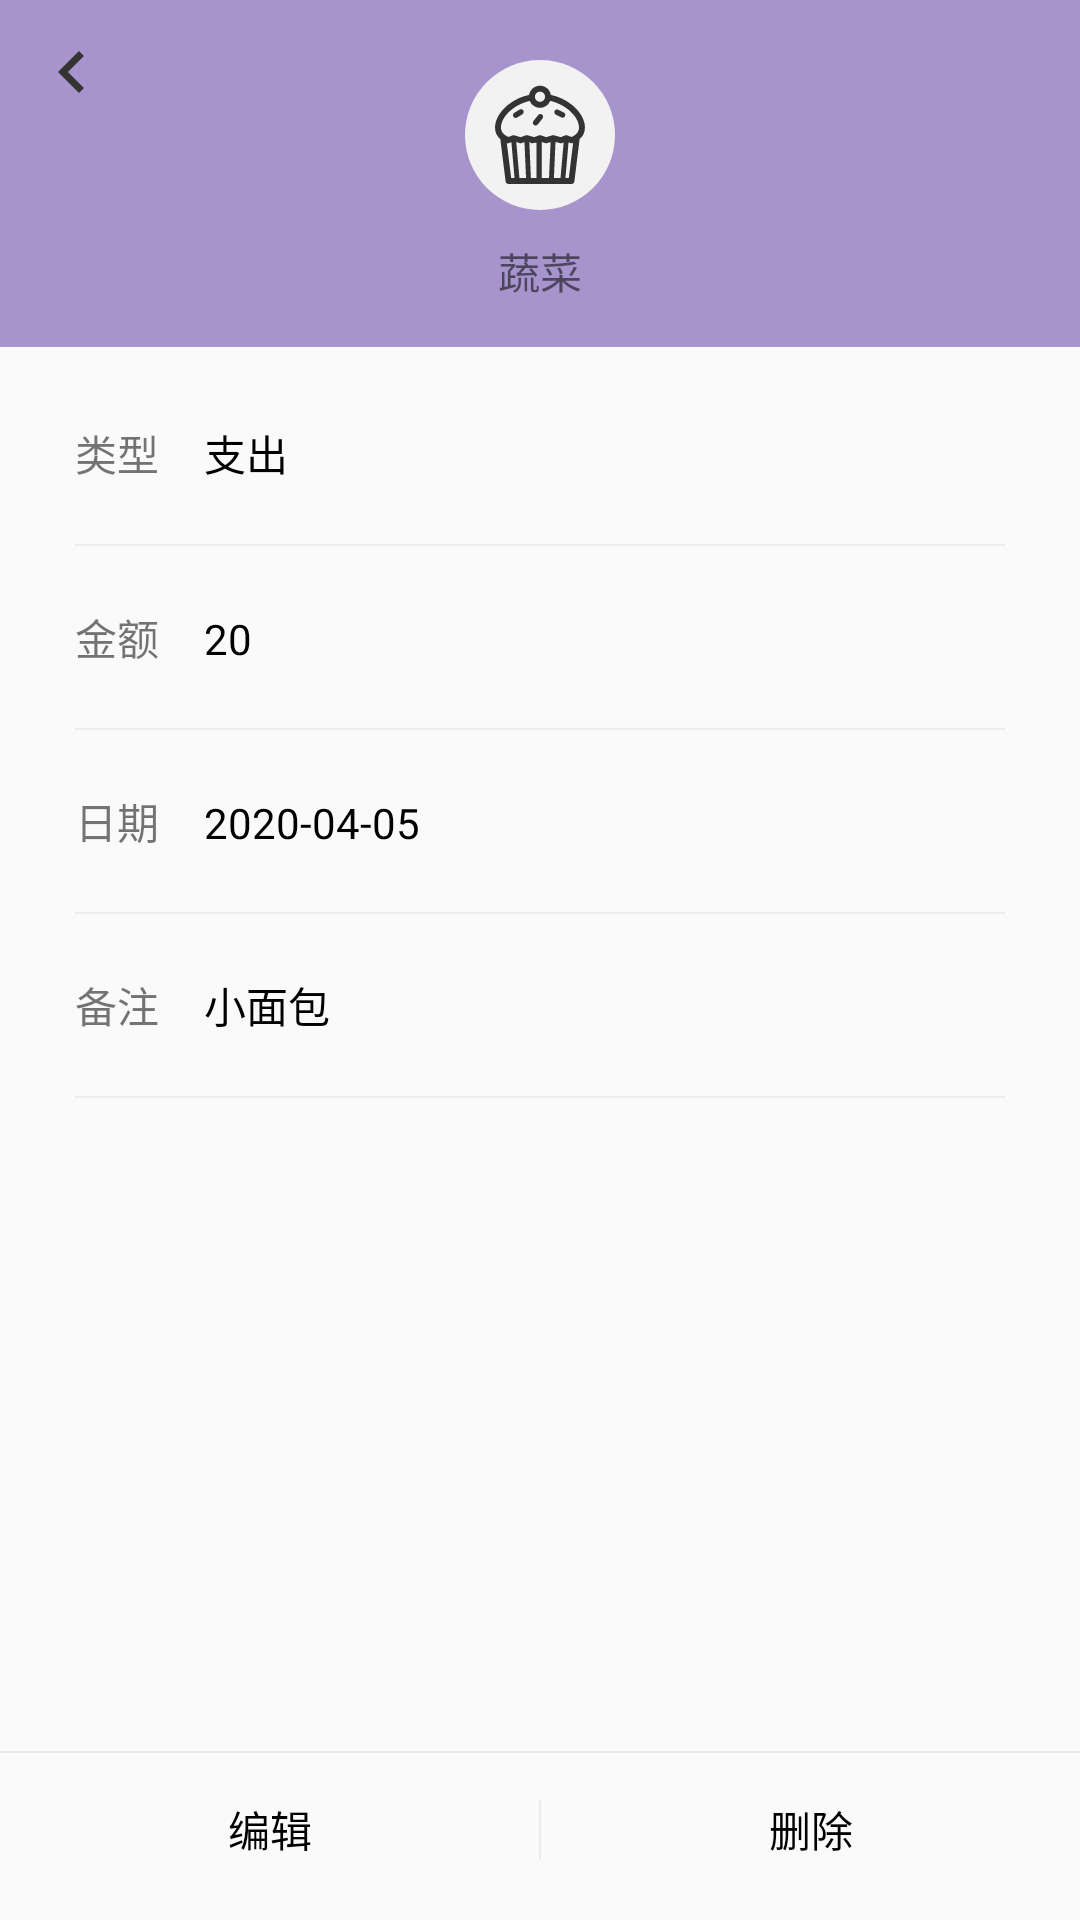

Named icons in this screenshot (1080px×1920px) and their centers, point (x, y):
back: point (71, 72)
snacks: point (540, 135)
